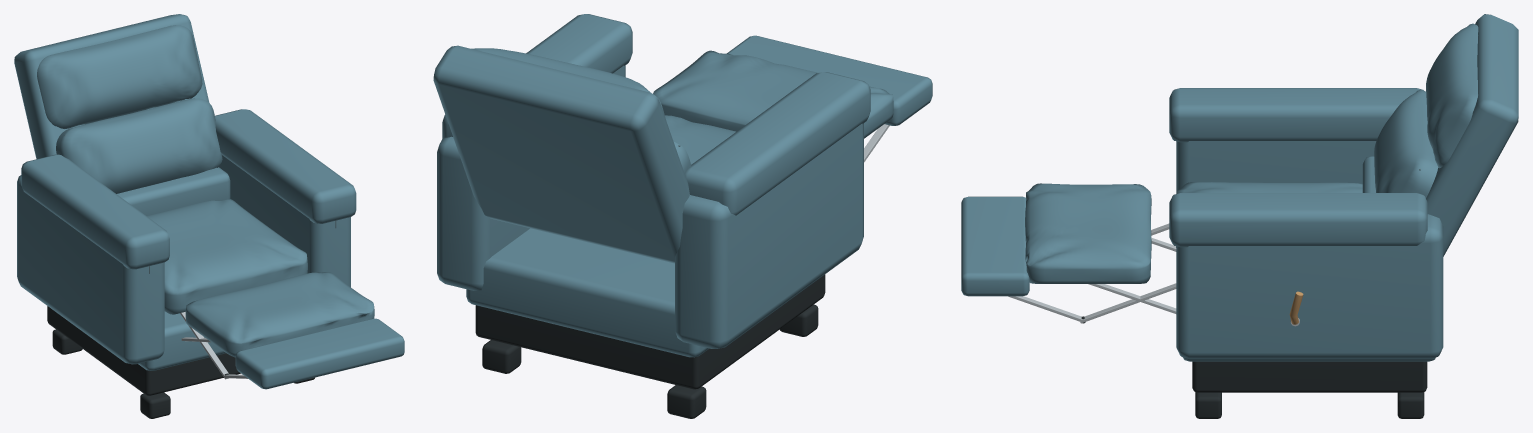
File: manual-recliner-extended.glb
The picture shows the model from 3 angles, left to right: view 1: azimuth 30°, elevation 25°; view 2: azimuth 150°, elevation 25°; view 3: azimuth 270°, elevation 25°; orthographic projection. The views are drawn at different scales.
Parts seen in each view (by area): view 1: catalog_surface_RealismUV, catalog_surface_UVMap; view 2: catalog_surface_RealismUV, catalog_surface_UVMap; view 3: catalog_surface_RealismUV, catalog_surface_UVMap.
Part boxes in pixels (bbox=[...]): catalog_surface_RealismUV: bbox=[14, 14, 404, 389]; catalog_surface_UVMap: bbox=[47, 306, 314, 418]; catalog_surface_RealismUV: bbox=[433, 14, 932, 357]; catalog_surface_UVMap: bbox=[475, 274, 825, 418]; catalog_surface_RealismUV: bbox=[961, 14, 1518, 361]; catalog_surface_UVMap: bbox=[1081, 316, 1427, 418].
Bounding box in the file's own units: 0.9 × 0.99 × 1.58.
